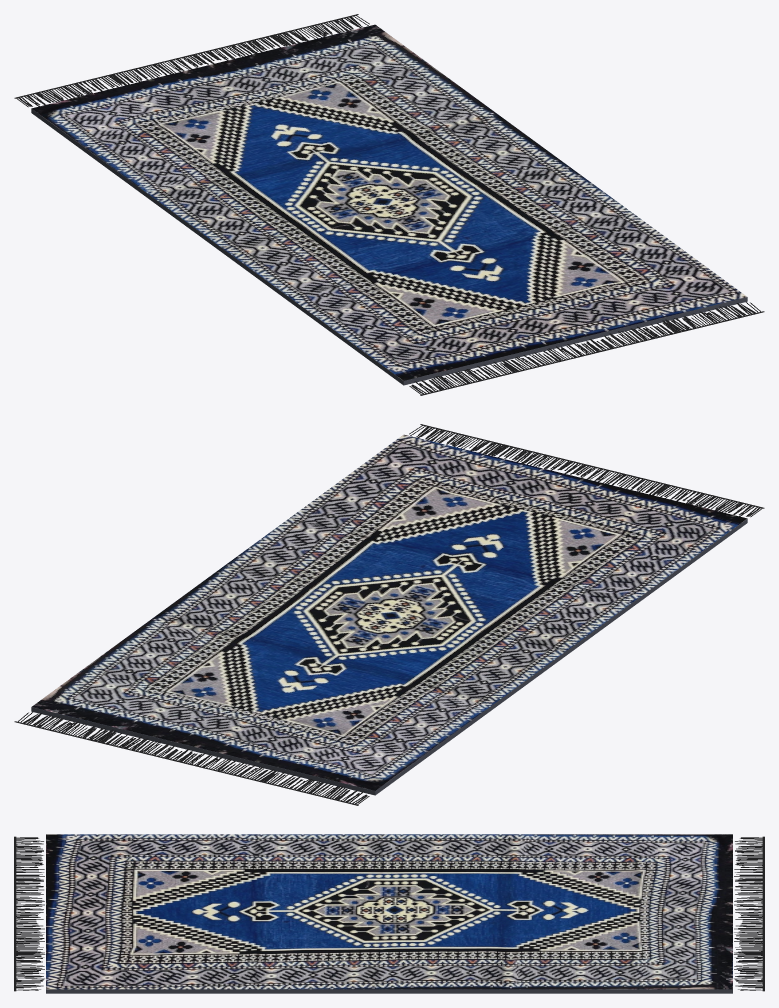
3 renders of one model, top to bottom at view 1: azimuth 30°, elevation 25°; view 2: azimuth 150°, elevation 25°; view 3: azimuth 270°, elevation 25°, orthographic. The views are drawn at different scales.
Parts seen in each view (by area): view 1: rug, fringeB, fringeA, side; view 2: rug, fringeA, fringeB, side; view 3: rug, fringeB, fringeA, side.
Part boxes in pixels (left/top/right/bottom): rug: left=31, top=24, right=746, bottom=380; fringeB: left=409, top=302, right=764, bottom=395; fringeA: left=14, top=14, right=369, bottom=107; side: left=31, top=108, right=747, bottom=385; rug: left=32, top=434, right=747, bottom=790; fringeA: left=14, top=712, right=369, bottom=805; fringeB: left=409, top=424, right=764, bottom=517; side: left=31, top=518, right=747, bottom=795; rug: left=46, top=834, right=732, bottom=989; fringeB: left=14, top=836, right=45, bottom=991; fringeA: left=733, top=836, right=764, bottom=991; side: left=46, top=989, right=732, bottom=993.
Size of what is drawn, in the model's own units: 0.8 by 0.0102 by 1.64.
Materials: 2 (2 with a texture image).
